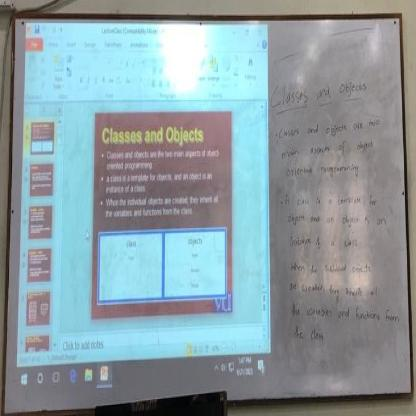Handwritten text: (275, 107, 387, 146), (268, 75, 378, 110), (277, 133, 379, 165), (290, 303, 405, 325), (284, 185, 383, 210), (284, 278, 384, 302), (283, 154, 367, 182), (286, 212, 394, 230), (287, 257, 377, 276), (285, 231, 365, 252), (292, 325, 330, 346)
Whiteboard: (0, 3, 413, 412)
